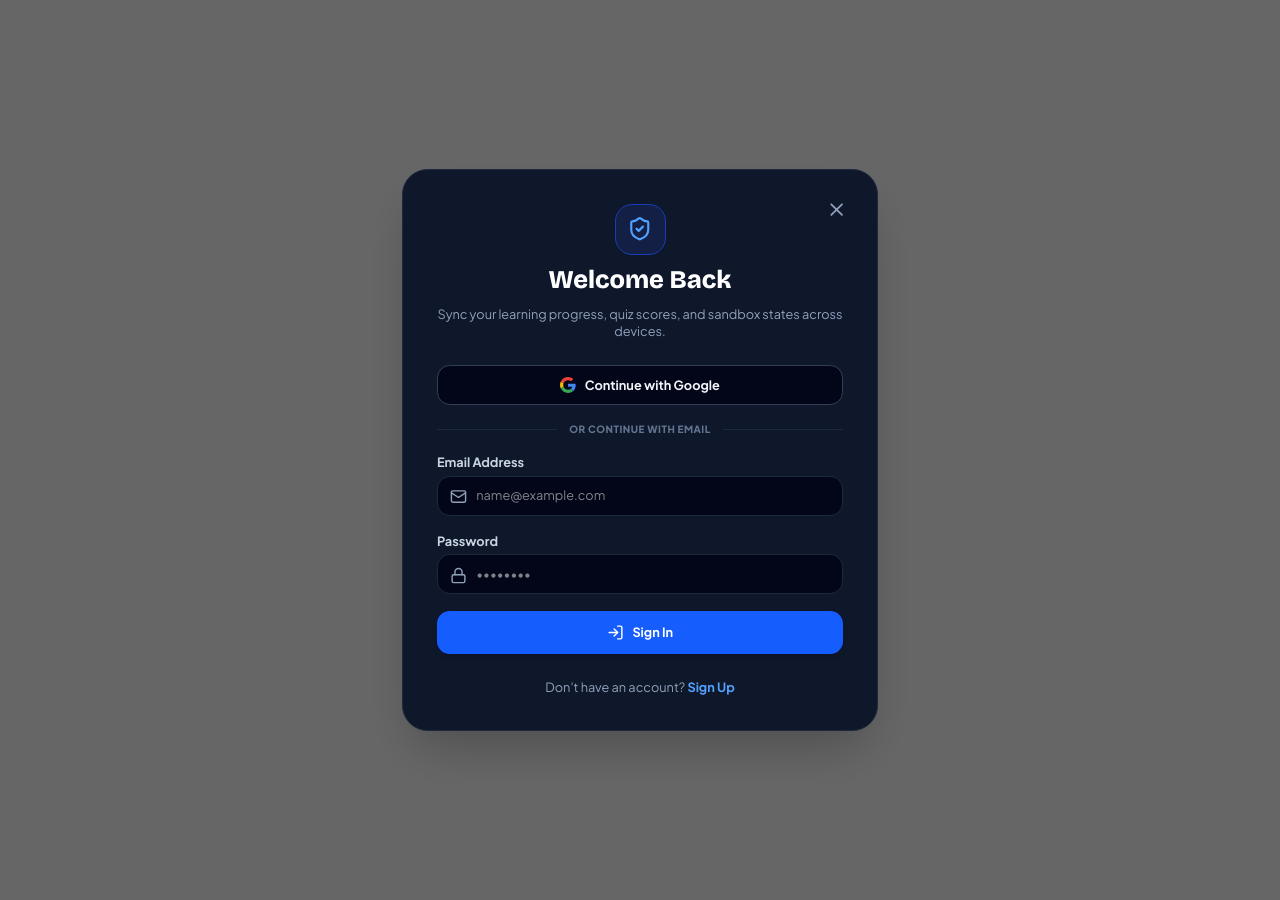
Test: AuthModal › toggles back to login mode from signup
This screenshot has width=1280, height=900.
Step 1. Click the button "Sign Up" → click(711, 688), box [687,679,735,696]
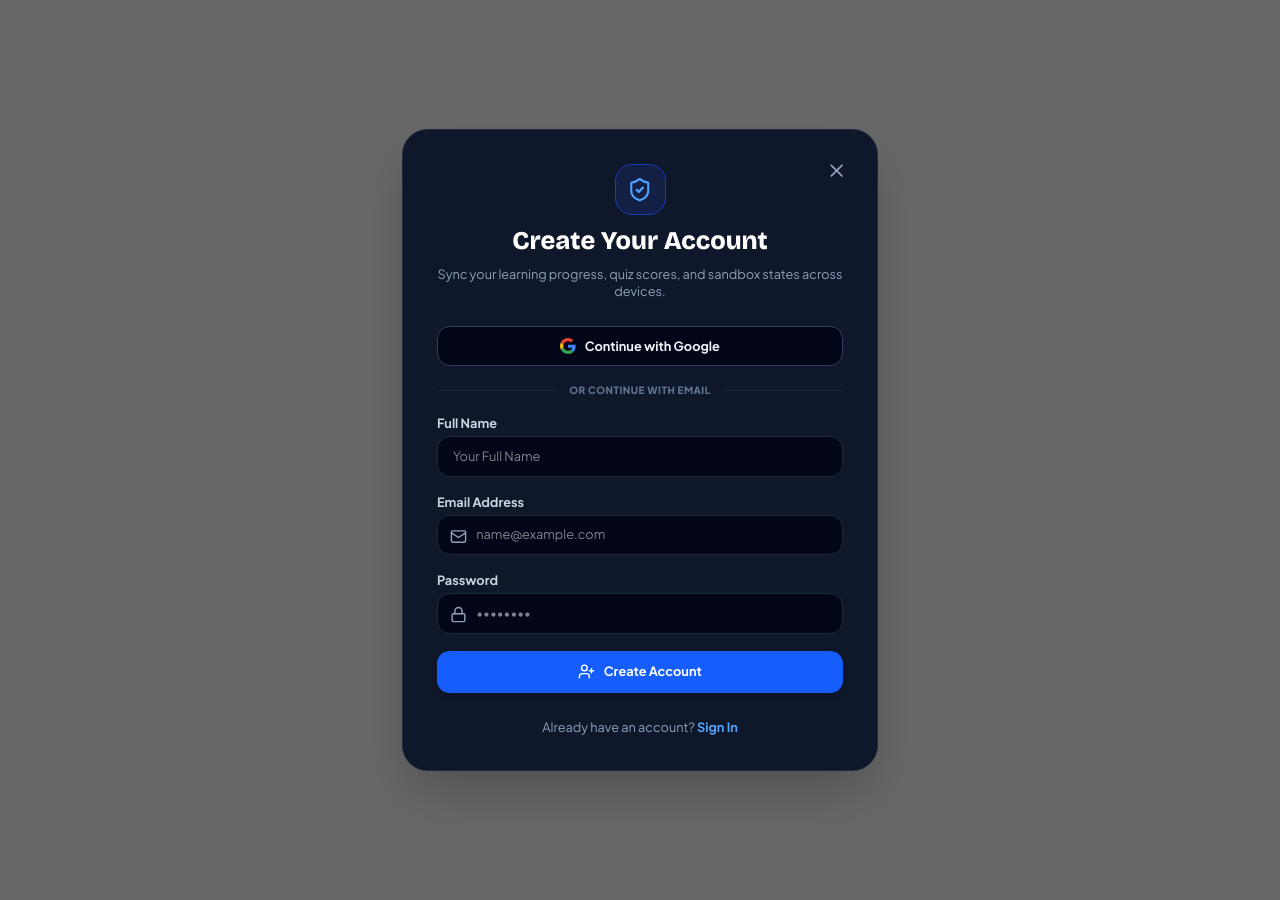
Step 2. Click the button "Sign In" → click(717, 727), box [697,718,738,736]
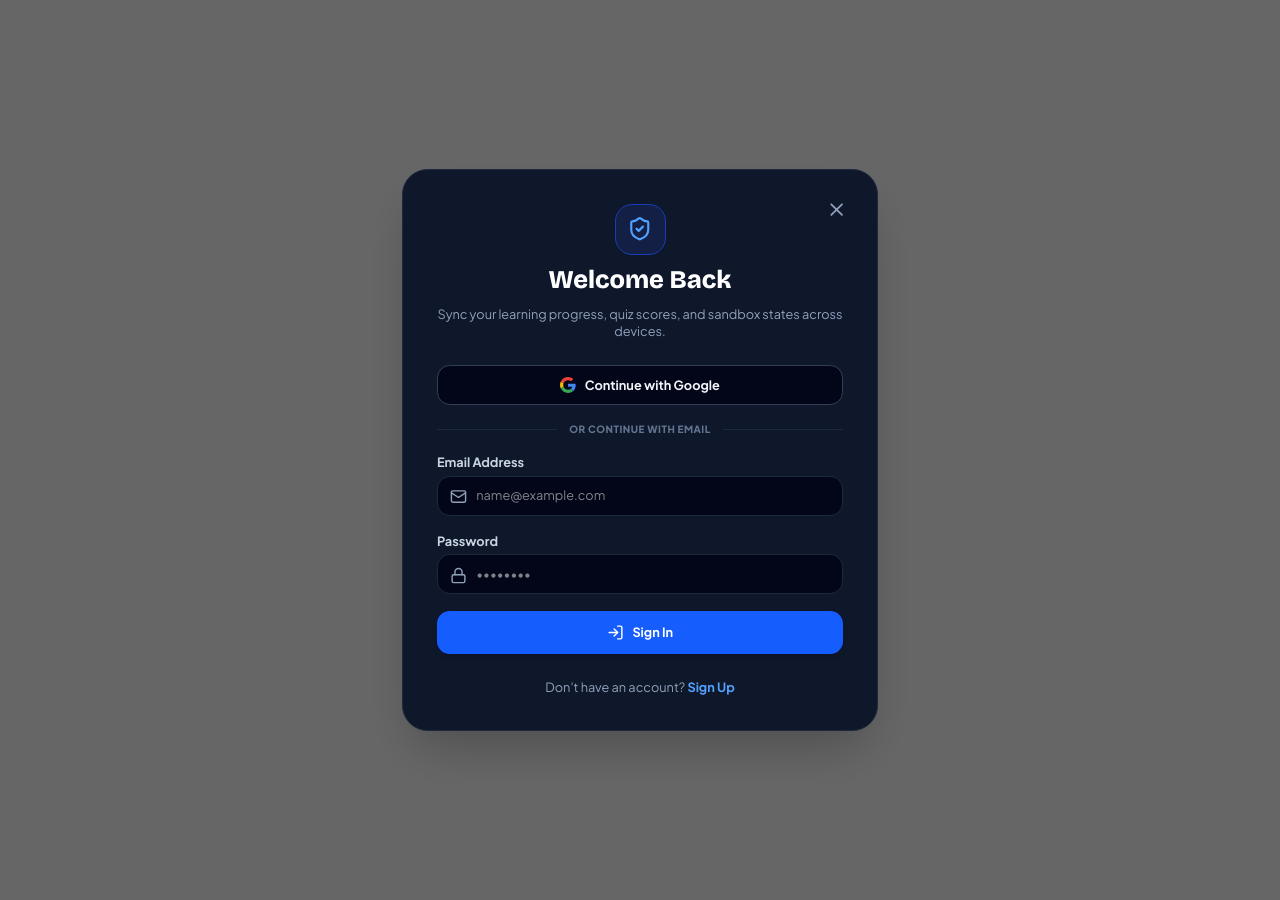
Check: the heading "Welcome Back" is shown, box [548,264,731,295]
